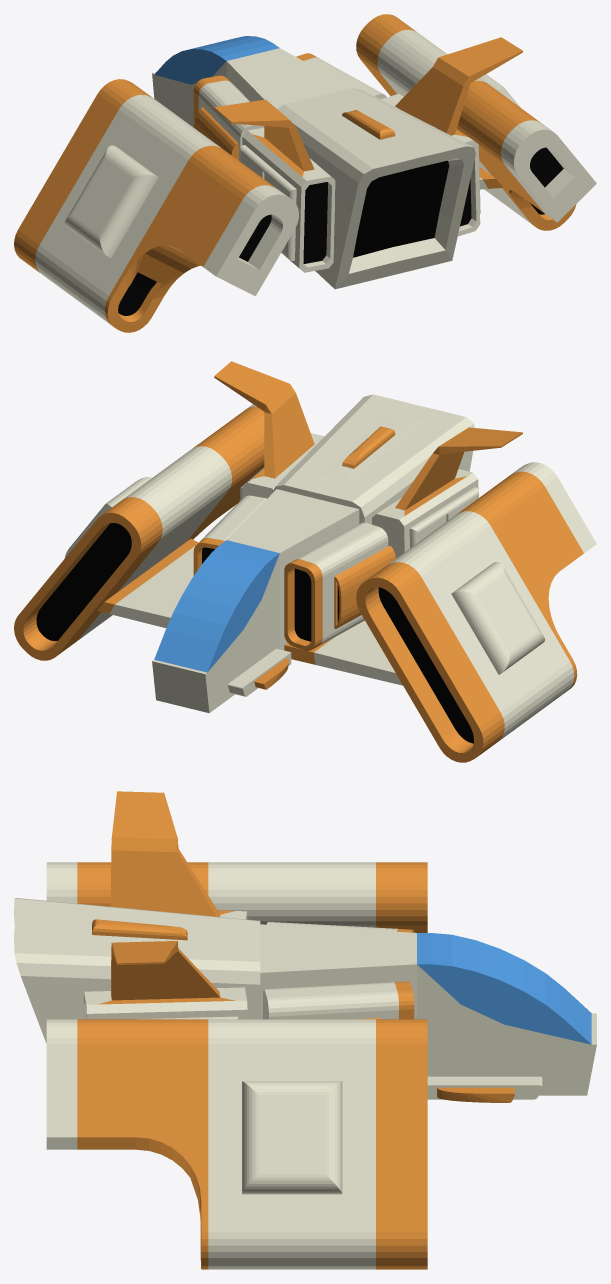
3 renders of one model, top to bottom at view 1: azimuth 30°, elevation 25°; view 2: azimuth 150°, elevation 25°; view 3: azimuth 270°, elevation 25°, orthographic. The views are drawn at different scales.
Visible parts, largest first — view 1: Cube.001, Cube; view 2: Cube.001, Cube; view 3: Cube.001, Cube.
Boxes of the visible parts, bbox=[...] form: Cube.001: bbox=[14, 14, 596, 332]; Cube: bbox=[152, 36, 522, 289]; Cube.001: bbox=[14, 404, 596, 762]; Cube: bbox=[152, 361, 522, 713]; Cube.001: bbox=[46, 862, 427, 1269]; Cube: bbox=[14, 791, 596, 1102].
Size of the model in its own units: 142 by 63.7 by 126.
